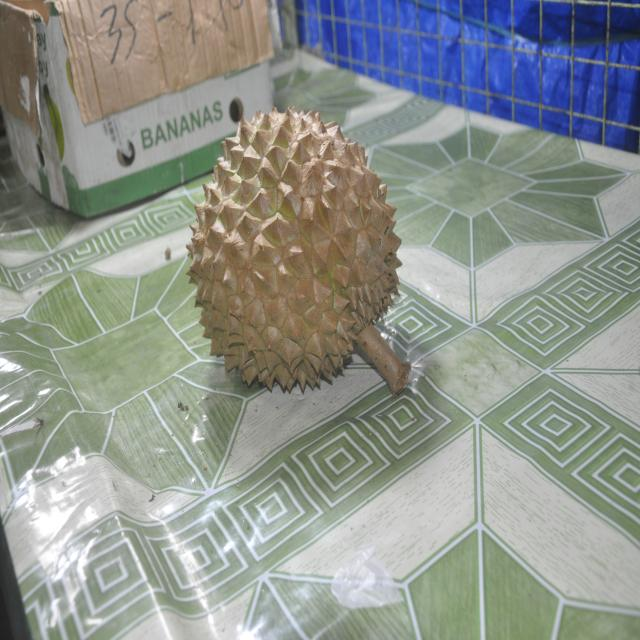mature: (187, 108, 411, 395)
